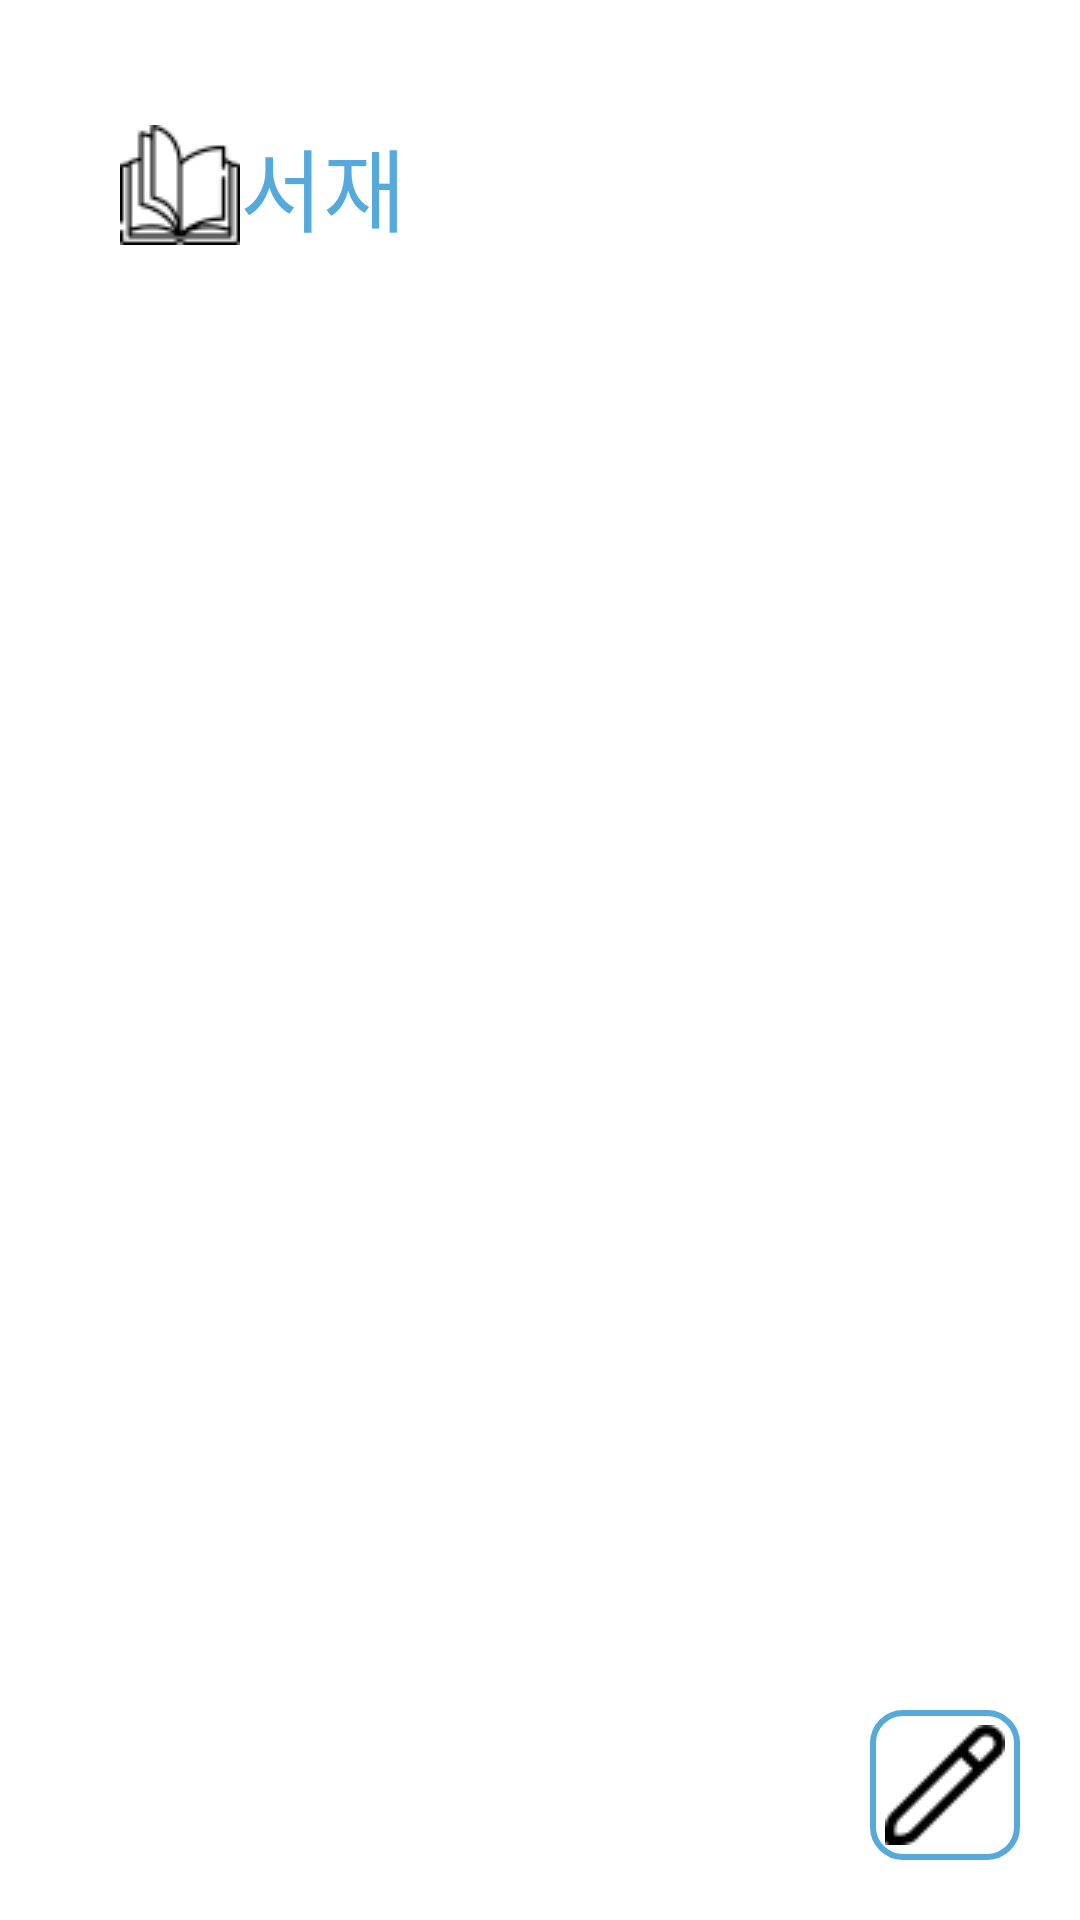

Icon bounding boxes for this 1080×1920 phone screenshot, format [x1=x1, y1=y1, x2=x2, y2=y2]:
pencil: [x1=870, y1=1710, x2=1020, y2=1860]
